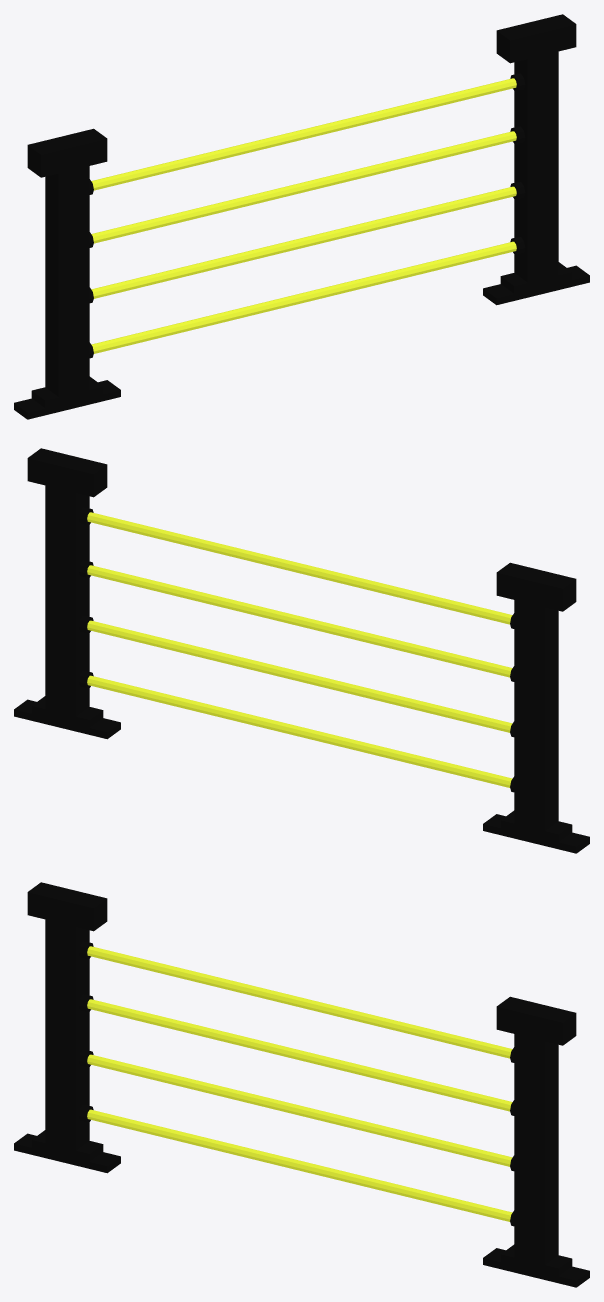
The model's file is LaserBarriere 4.glb.
3 renders of one model, top to bottom at view 1: azimuth 30°, elevation 25°; view 2: azimuth 150°, elevation 25°; view 3: azimuth 330°, elevation 25°, orthographic.
Parts seen in each view (by area): view 1: Scifi_SmallLaser_Barrier_Scifi_Tunnel_Texture_0.003; view 2: Scifi_SmallLaser_Barrier_Scifi_Tunnel_Texture_0.003; view 3: Scifi_SmallLaser_Barrier_Scifi_Tunnel_Texture_0.003.
Part boxes in pixels (x1,y1,x2,y2): Scifi_SmallLaser_Barrier_Scifi_Tunnel_Texture_0.003: (14, 14, 589, 419); Scifi_SmallLaser_Barrier_Scifi_Tunnel_Texture_0.003: (14, 448, 589, 853); Scifi_SmallLaser_Barrier_Scifi_Tunnel_Texture_0.003: (14, 882, 589, 1287).
Size of the model in its own units: 3.3 by 1.47 by 0.1376.
Materials: 1 (1 with a texture image).
